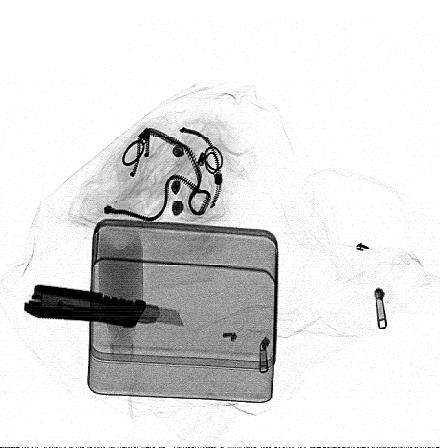Knife: (24, 285, 185, 330)
